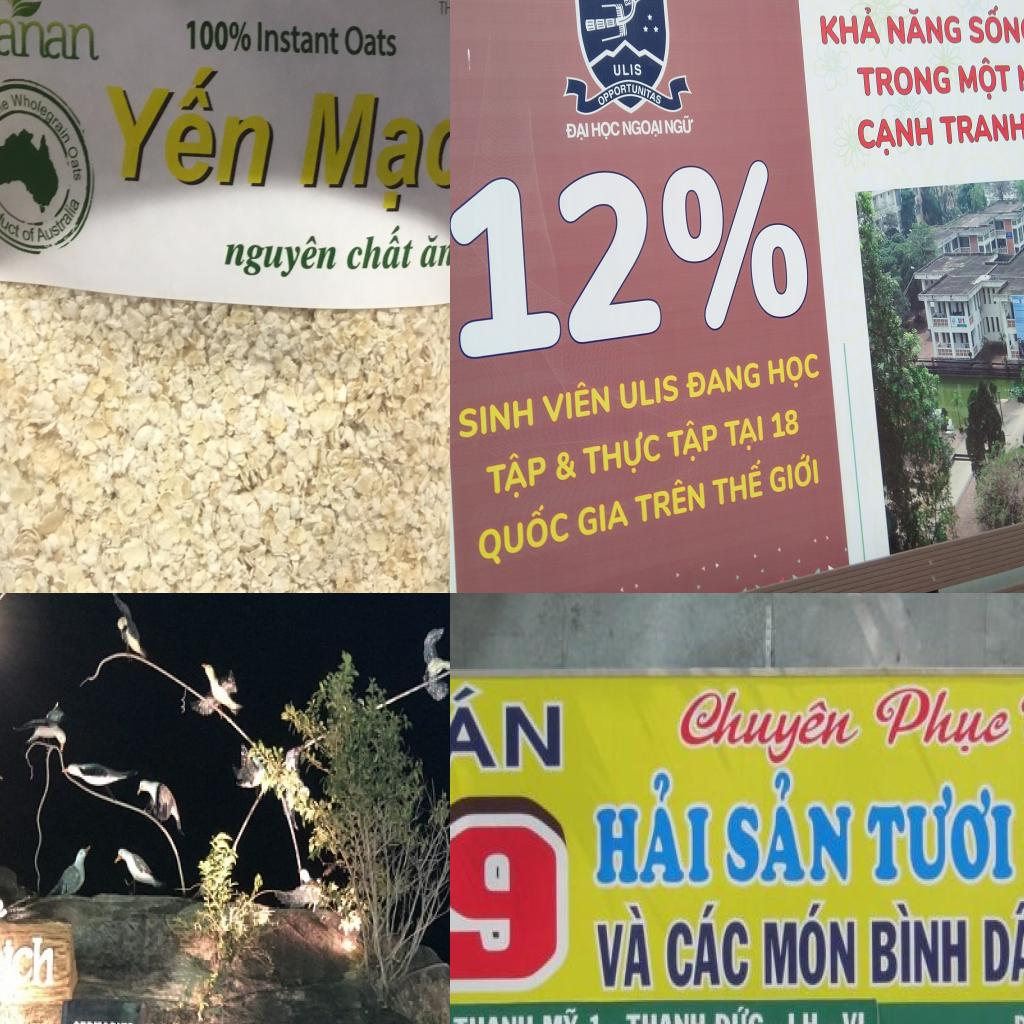text: (450, 138, 826, 372), (98, 56, 290, 190), (450, 809, 571, 1000), (292, 81, 450, 216), (864, 780, 1018, 887), (724, 766, 856, 888), (674, 686, 870, 768), (592, 764, 717, 892), (869, 682, 1018, 760), (450, 682, 563, 780), (868, 898, 973, 990), (759, 900, 859, 992), (662, 896, 753, 993), (473, 496, 572, 573), (218, 232, 342, 283), (589, 900, 654, 992), (0, 12, 103, 64), (578, 426, 666, 486), (8, 87, 94, 147), (481, 445, 550, 508), (627, 472, 707, 526), (452, 393, 536, 444), (343, 218, 419, 274), (538, 373, 613, 427), (981, 897, 1024, 988), (682, 356, 764, 402), (854, 116, 936, 161), (850, 63, 952, 99), (883, 5, 964, 49), (662, 412, 722, 471), (935, 109, 1024, 148), (254, 18, 340, 58), (707, 455, 767, 510), (35, 195, 89, 255), (814, 3, 883, 49), (952, 54, 1014, 104), (762, 347, 824, 396), (183, 12, 255, 53), (615, 370, 681, 413), (963, 4, 1024, 48), (768, 449, 822, 498), (572, 500, 632, 542), (583, 80, 666, 110), (342, 20, 404, 60), (721, 415, 767, 457), (712, 1001, 783, 1024), (414, 230, 450, 272), (0, 182, 22, 249), (768, 405, 802, 442), (451, 1010, 538, 1024), (623, 1010, 709, 1024), (620, 117, 665, 139), (66, 137, 86, 186), (590, 118, 622, 144), (540, 1005, 582, 1024), (785, 1010, 839, 1024), (662, 114, 694, 136), (610, 61, 644, 80), (838, 1007, 875, 1024), (564, 120, 590, 144), (68, 1016, 137, 1024), (586, 1010, 623, 1024), (0, 91, 12, 131), (1013, 54, 1024, 95), (20, 225, 36, 246), (434, 0, 450, 17)
